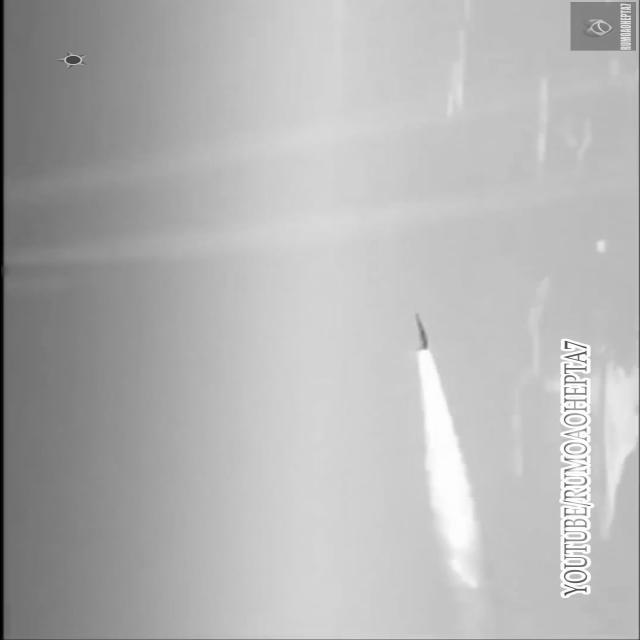missile: (401, 310, 439, 356)
